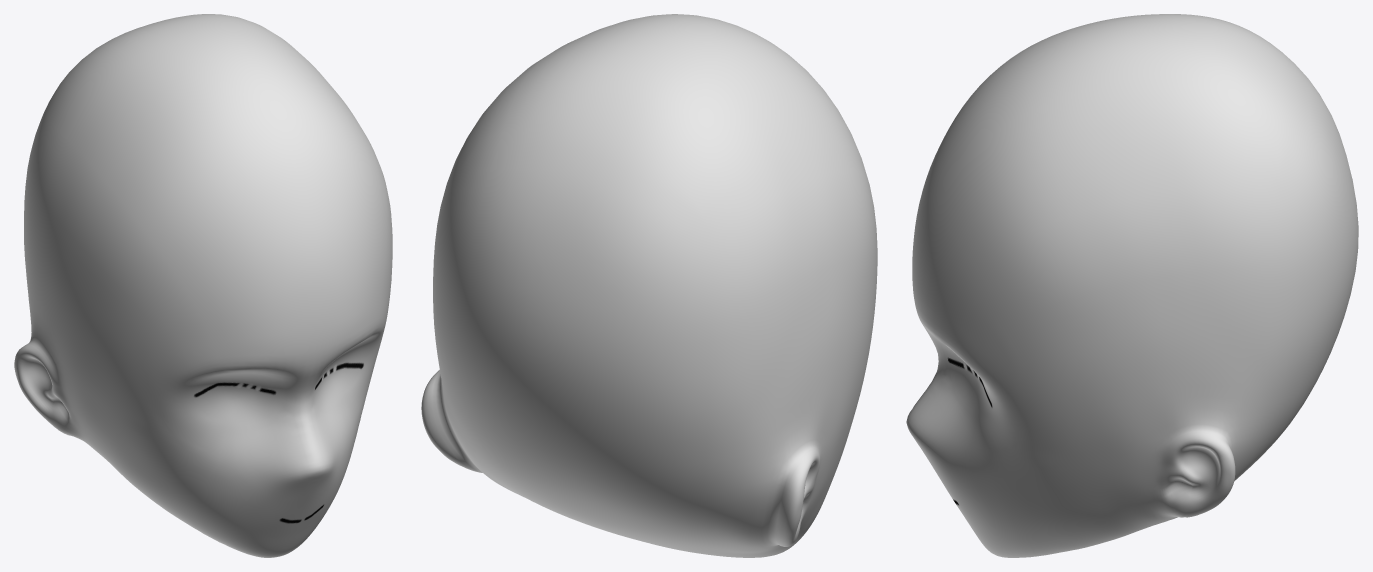
3 renders of one model, left to right at view 1: azimuth 30°, elevation 25°; view 2: azimuth 150°, elevation 25°; view 3: azimuth 270°, elevation 25°, orthographic. The views are drawn at different scales.
Parts seen in each view (by area): view 1: node_id102; view 2: node_id102; view 3: node_id102.
Part boxes in pixels (x1=…): node_id102: x1=14, y1=14, x2=392, y2=557; node_id102: x1=421, y1=14, x2=877, y2=557; node_id102: x1=906, y1=14, x2=1358, y2=557.
Bounding box in the file's own units: 0.3579 × 0.512 × 0.4031.
Materials: 1 (1 with a texture image).
